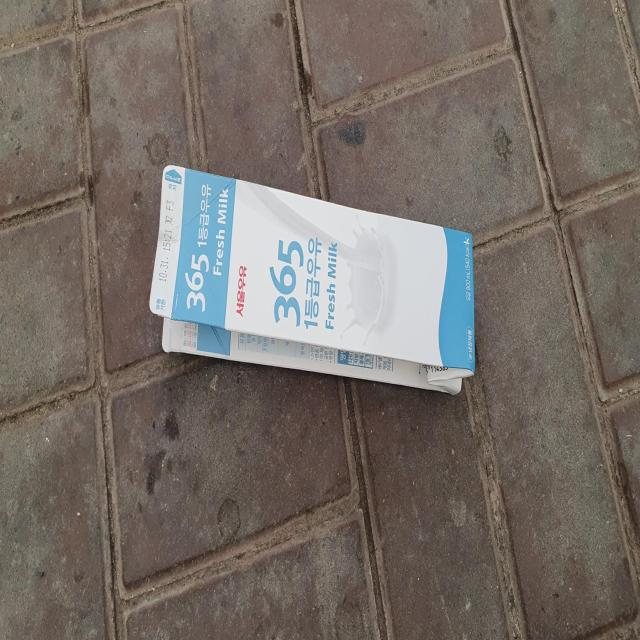paperpack: (149, 164, 476, 394)
